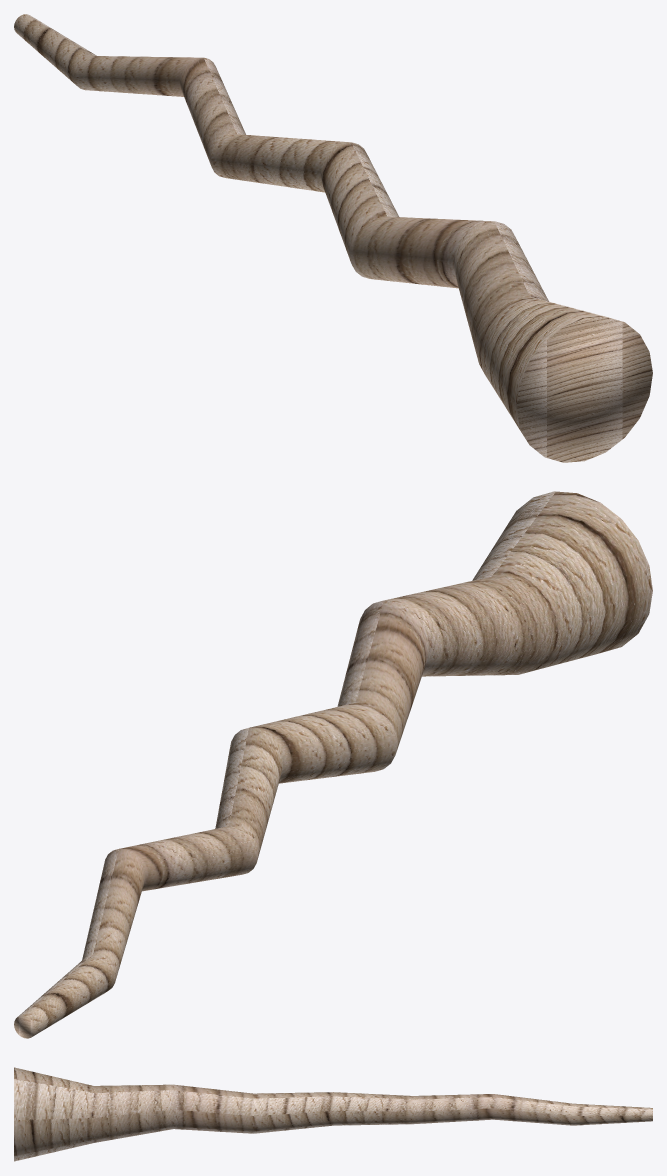
The model's file is sorcio CODA.fbx.
3 views of the same model, one above another, from view 1: azimuth 30°, elevation 25°; view 2: azimuth 150°, elevation 25°; view 3: azimuth 270°, elevation 25° (orthographic). The views are drawn at different scales.
Parts seen in each view (by area): view 1: polySurface1; view 2: polySurface1; view 3: polySurface1.
Boxes of the visible parts, x1=… form: polySurface1: x1=14, y1=14, x2=652, y2=462; polySurface1: x1=14, y1=491, x2=652, y2=1038; polySurface1: x1=14, y1=1067, x2=652, y2=1161.
Size of the model in its own units: 5.02 by 5.02 by 33.8.
Materials: 1 (1 with a texture image).
